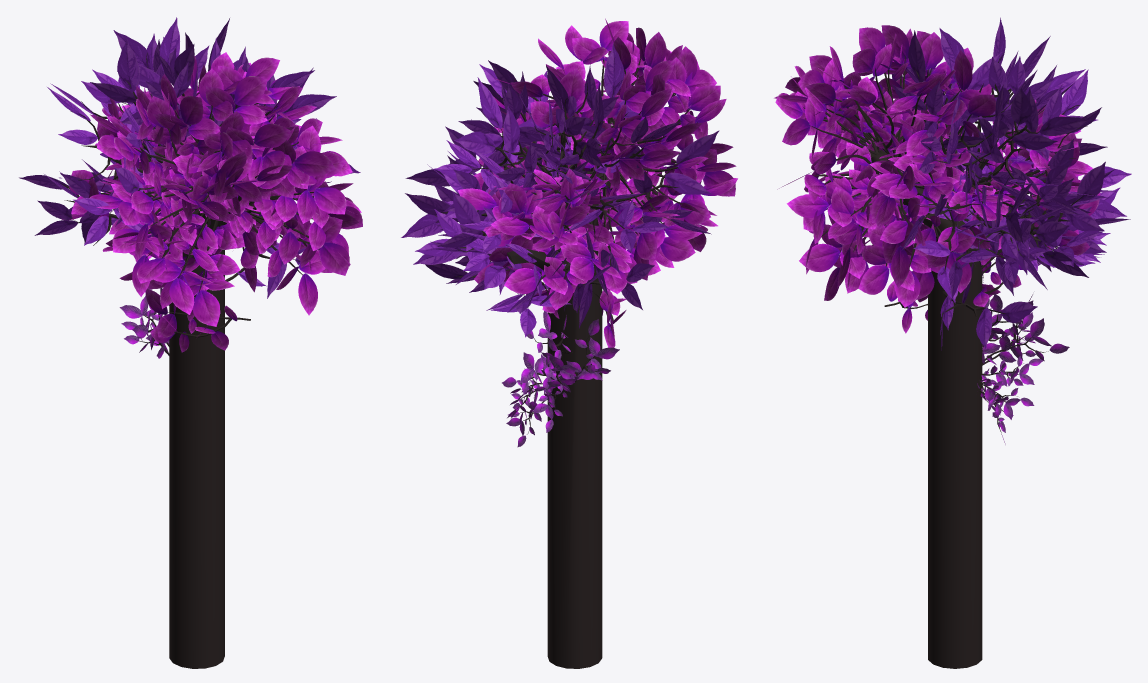
File: purpletree14.fbx
The picture shows the model from 3 angles, left to right: view 1: azimuth 30°, elevation 25°; view 2: azimuth 150°, elevation 25°; view 3: azimuth 270°, elevation 25°; orthographic projection. The views are drawn at different scales.
Parts seen in each view (by area): view 1: pCylinder1068; view 2: pCylinder1068; view 3: pCylinder1068.
Boxes of the visible parts, x1=… form: pCylinder1068: x1=19, y1=17, x2=362, y2=668; pCylinder1068: x1=401, y1=18, x2=737, y2=668; pCylinder1068: x1=774, y1=17, x2=1131, y2=668.
Size of the model in its own units: 23.13 by 49.55 by 25.99.
